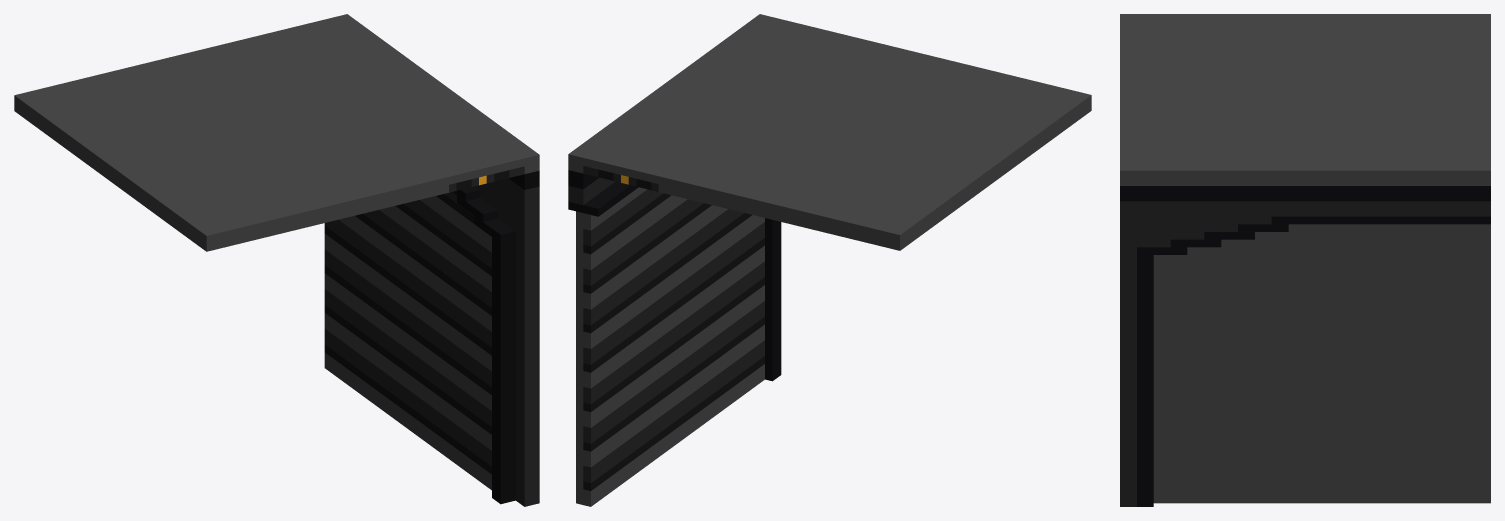
Rendered from mesh_hanger_ship_door_top_right.obj.
3 renders of one model, left to right at view 1: azimuth 30°, elevation 25°; view 2: azimuth 150°, elevation 25°; view 3: azimuth 270°, elevation 25°, orthographic. The views are drawn at different scales.
Size of the model in its own units: 4.4 by 4.4 by 4.4.
1 material, 1 textured.
